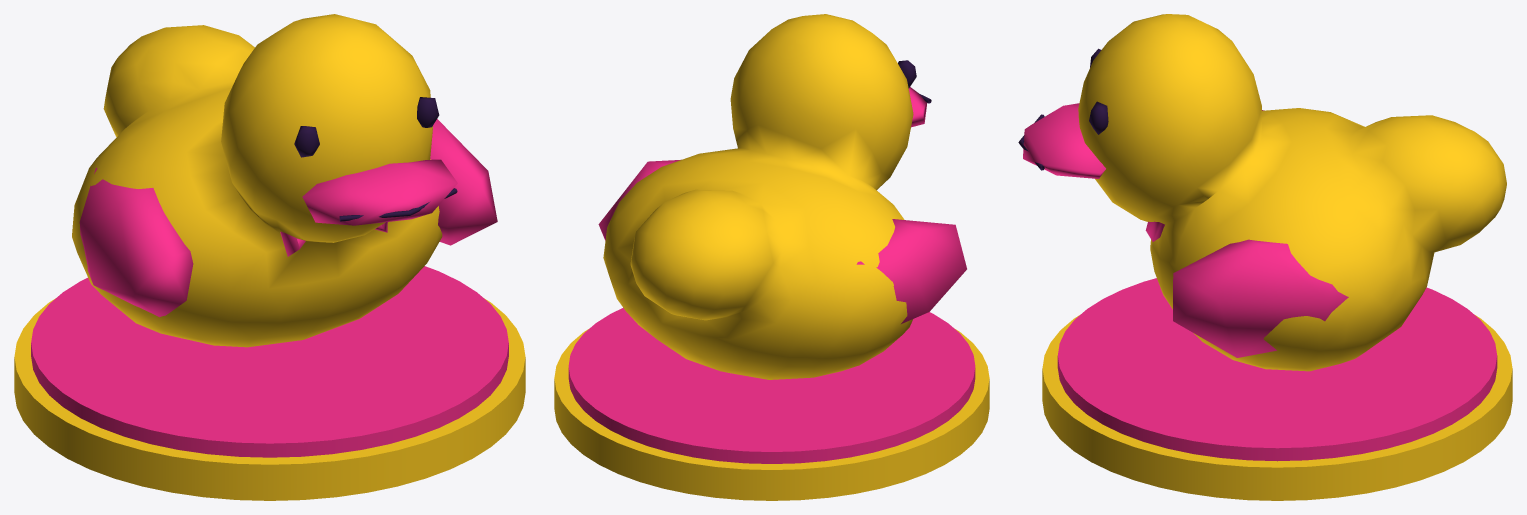
File: desk.toy.rubber-duck.lod1.glb
The picture shows the model from 3 angles, left to right: view 1: azimuth 30°, elevation 25°; view 2: azimuth 150°, elevation 25°; view 3: azimuth 270°, elevation 25°; orthographic projection. The views are drawn at different scales.
Visible parts, largest first — view 1: duck_body, stand_trim, stand_base, duck_wing, duck_bill, duck_wing.001, duck_eye, duck_eye.001; view 2: duck_body, stand_trim, stand_base, duck_wing, duck_wing.001, duck_bill; view 3: duck_body, stand_trim, stand_base, duck_wing.001, duck_bill.
Part boxes in pixels (left/top/right/bottom): duck_body: left=72, top=14, right=442, bottom=347; stand_trim: left=31, top=266, right=508, bottom=457; stand_base: left=14, top=298, right=525, bottom=500; duck_wing: left=79, top=167, right=193, bottom=317; duck_bill: left=302, top=159, right=457, bottom=225; duck_wing.001: left=430, top=119, right=497, bottom=245; duck_eye: left=294, top=126, right=319, bottom=157; duck_eye.001: left=417, top=97, right=439, bottom=127; duck_body: left=603, top=14, right=913, bottom=379; stand_trim: left=568, top=308, right=975, bottom=463; stand_base: left=554, top=328, right=989, bottom=500; duck_wing: left=856, top=219, right=966, bottom=323; duck_wing.001: left=598, top=159, right=681, bottom=240; duck_bill: left=909, top=87, right=927, bottom=127; duck_body: left=1078, top=14, right=1506, bottom=371; stand_trim: left=1057, top=278, right=1497, bottom=461; stand_base: left=1042, top=315, right=1512, bottom=500; duck_wing.001: left=1173, top=239, right=1348, bottom=357; duck_bill: left=1023, top=103, right=1105, bottom=178.
Size of the model in its own units: 0.4567 by 0.4066 by 0.48.
